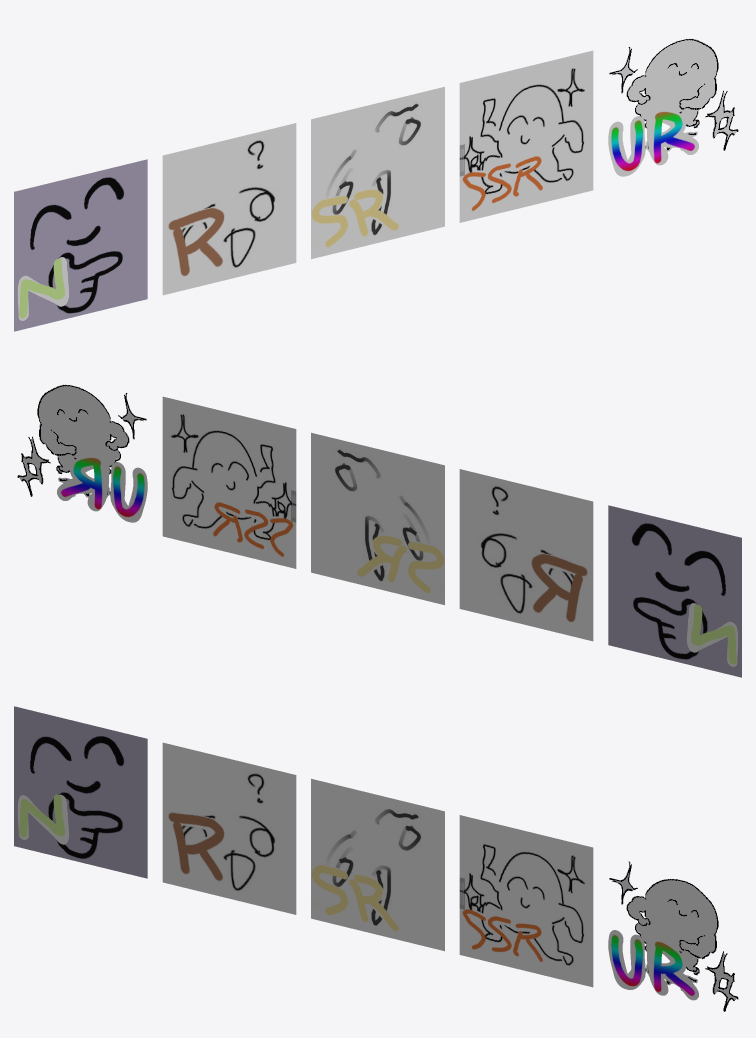
Rendered from select_mdl.fbx.
3 renders of one model, top to bottom at view 1: azimuth 30°, elevation 25°; view 2: azimuth 150°, elevation 25°; view 3: azimuth 330°, elevation 25°, orthographic.
Parts seen in each view (by area): view 1: SSR_mdl, SR_mdl, R_mdl, N_mdl, UR_mdl; view 2: SSR_mdl, SR_mdl, R_mdl, N_mdl, UR_mdl; view 3: SSR_mdl, SR_mdl, R_mdl, N_mdl, UR_mdl.
Part boxes in pixels (left/top/right/bottom): SSR_mdl: left=459, top=50, right=593, bottom=222; SR_mdl: left=162, top=123, right=296, bottom=295; R_mdl: left=14, top=159, right=147, bottom=331; N_mdl: left=311, top=86, right=444, bottom=259; UR_mdl: left=608, top=38, right=738, bottom=176; SSR_mdl: left=162, top=396, right=296, bottom=568; SR_mdl: left=459, top=469, right=593, bottom=641; R_mdl: left=608, top=505, right=741, bottom=677; N_mdl: left=311, top=432, right=444, bottom=605; UR_mdl: left=17, top=384, right=147, bottom=522; SSR_mdl: left=459, top=815, right=593, bottom=987; SR_mdl: left=162, top=742, right=296, bottom=914; R_mdl: left=14, top=706, right=147, bottom=878; N_mdl: left=311, top=778, right=444, bottom=951; UR_mdl: left=608, top=861, right=738, bottom=1011.
Size of the model in its own units: 490 by 90 by 9.99e-14.
5 materials, 5 textured.
